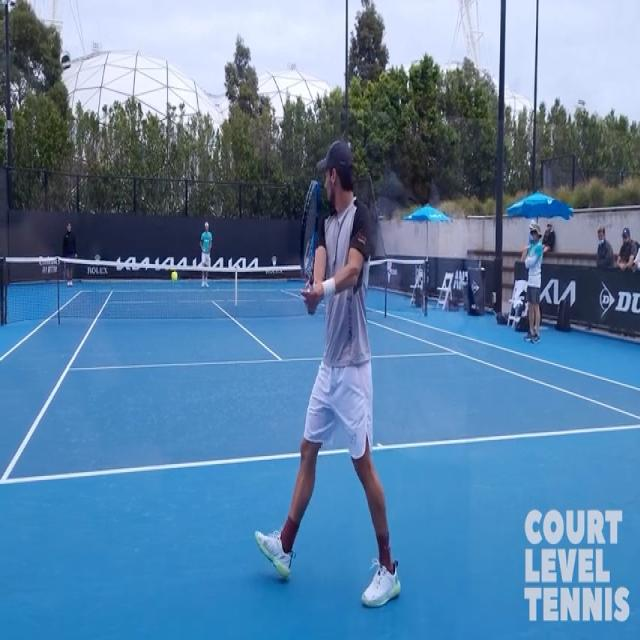backhand-ready: (268, 132, 399, 607)
